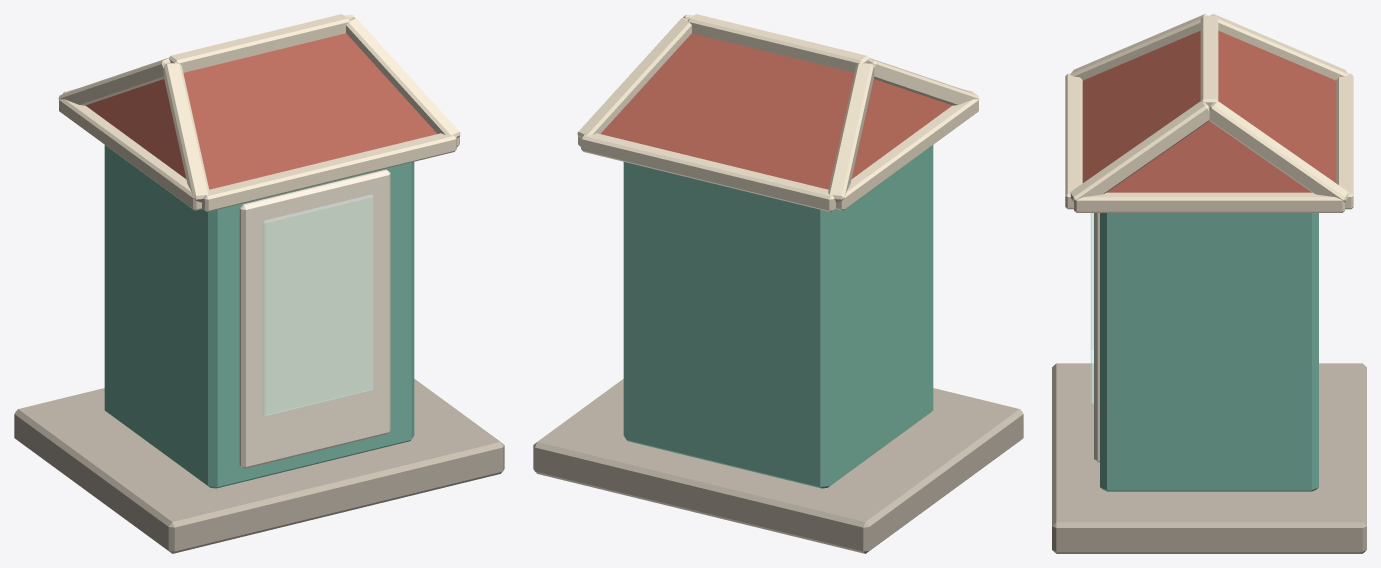
The model's file is F41-mini-book-booth.glb.
3 renders of one model, left to right at view 1: azimuth 30°, elevation 25°; view 2: azimuth 150°, elevation 25°; view 3: azimuth 270°, elevation 25°, orthographic.
Visible parts, largest first — view 1: Booth_Body, Door_Frame, Base, Booth_Cap, Glass_Pane, ivory_trim; view 2: Booth_Body, Base, Booth_Cap, ivory_trim; view 3: Booth_Body, Base, Booth_Cap, ivory_trim, Door_Frame, Glass_Pane.
Boxes of the visible parts, x1,y1,x2,y2 form: Booth_Body: (104, 145, 414, 488); Door_Frame: (239, 169, 390, 468); Base: (14, 379, 504, 553); Booth_Cap: (85, 33, 436, 189); Glass_Pane: (263, 195, 373, 416); ivory_trim: (58, 14, 460, 212); Booth_Body: (623, 145, 933, 488); Base: (533, 379, 1023, 553); Booth_Cap: (601, 33, 952, 189); ivory_trim: (577, 14, 979, 212); Booth_Body: (1100, 213, 1318, 491); Base: (1052, 363, 1366, 553); Booth_Cap: (1082, 30, 1336, 192); ivory_trim: (1065, 14, 1353, 212); Door_Frame: (1094, 213, 1099, 462); Glass_Pane: (1090, 213, 1093, 403).
Size of the model in its own units: 2.2 by 2.63 by 1.8.
